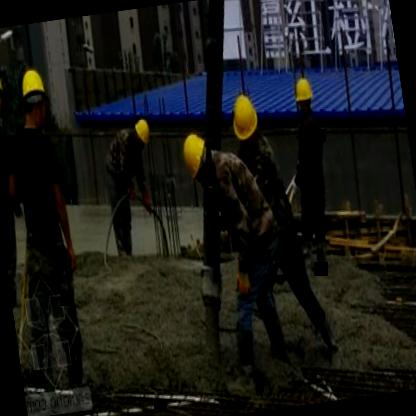helmet: (16, 64, 52, 131), (228, 88, 263, 152), (177, 126, 214, 184), (292, 70, 316, 114), (130, 110, 154, 154), (0, 61, 6, 112)
